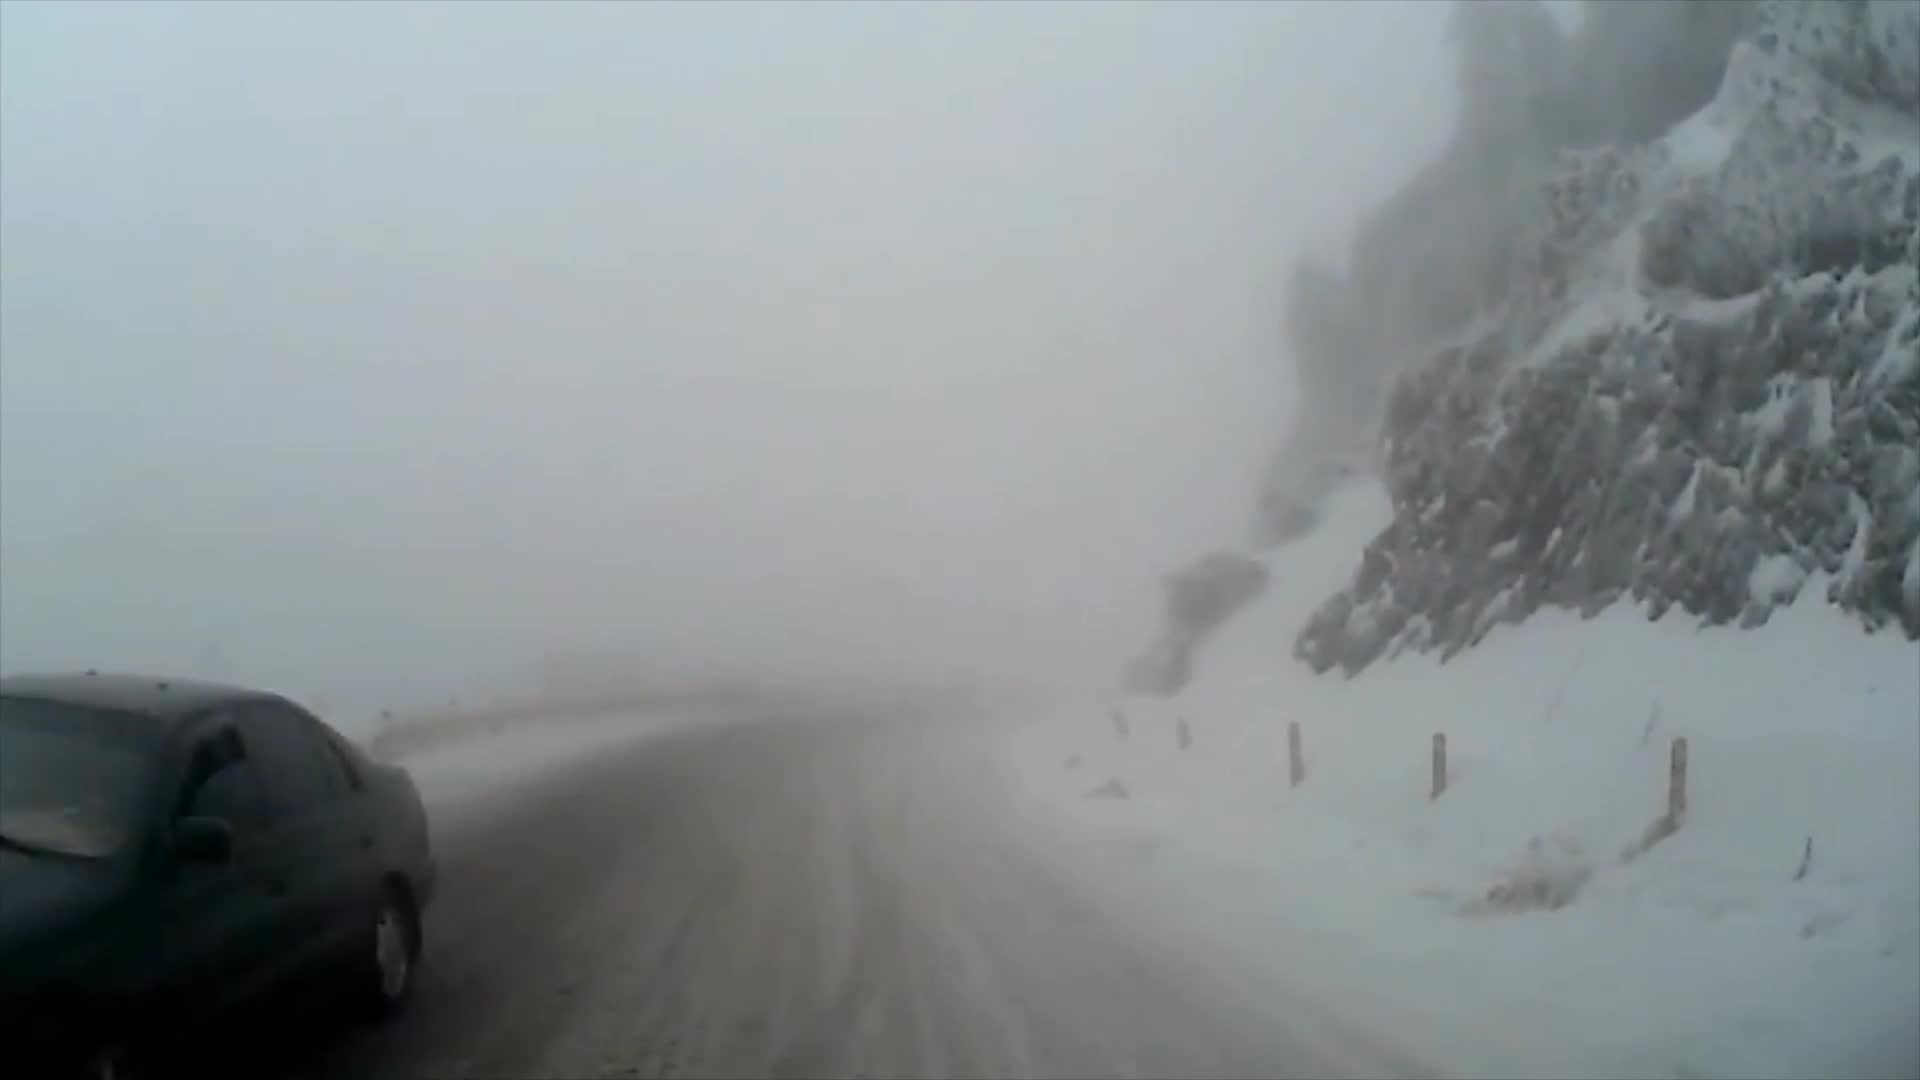vehicle: (0, 669, 439, 1080)
